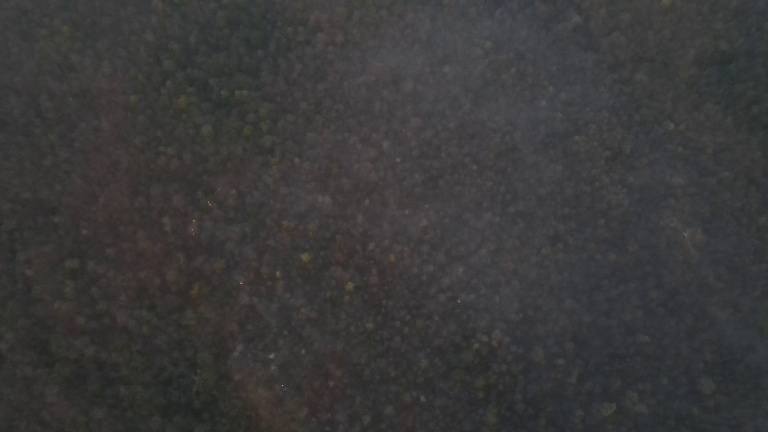fire: (206, 186, 225, 208), (187, 218, 201, 240), (236, 278, 245, 290), (280, 379, 288, 390)
